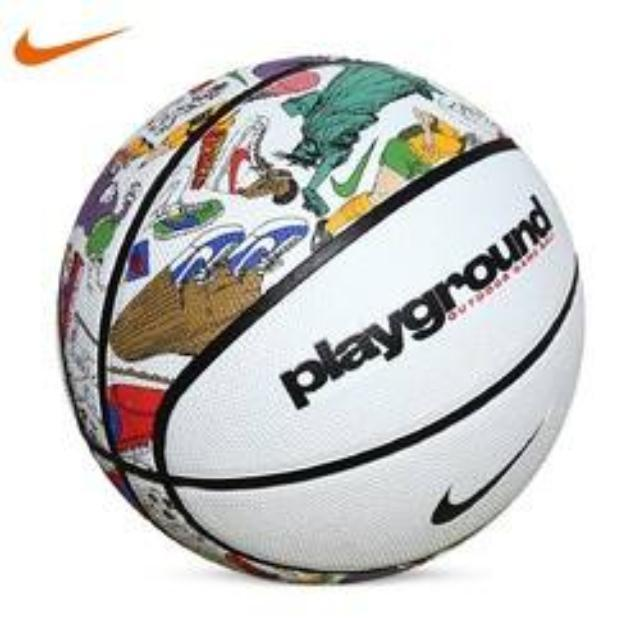basketball: (56, 56, 584, 582)
